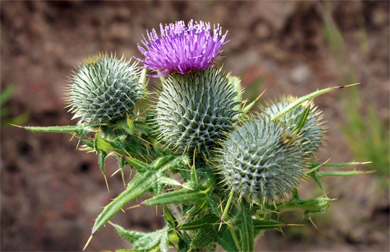thistle: (137, 24, 239, 148)
